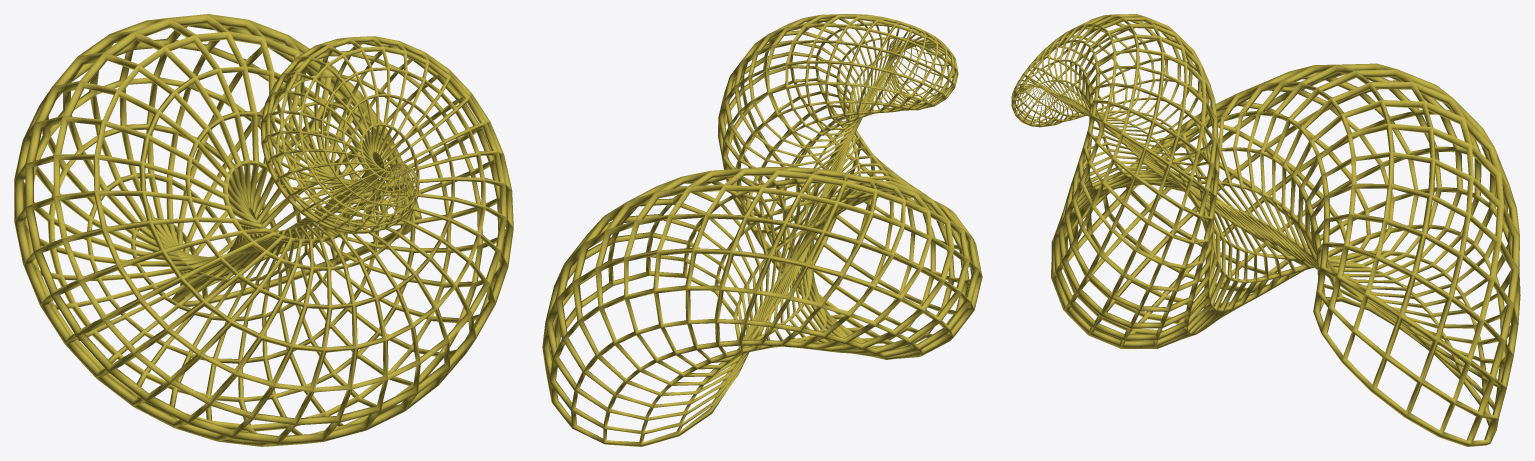
File: ramshorn.blend.fbx
The picture shows the model from 3 angles, left to right: view 1: azimuth 30°, elevation 25°; view 2: azimuth 150°, elevation 25°; view 3: azimuth 270°, elevation 25°; orthographic projection. The views are drawn at different scales.
Visible parts, largest first — view 1: XYZ Function.001; view 2: XYZ Function.001; view 3: XYZ Function.001.
Boxes of the visible parts, x1,y1,x2,y2 form: XYZ Function.001: (14,14,513,446); XYZ Function.001: (542,14,982,446); XYZ Function.001: (1011,14,1520,446).
Bounding box in the file's own units: 386 × 355 × 452.
